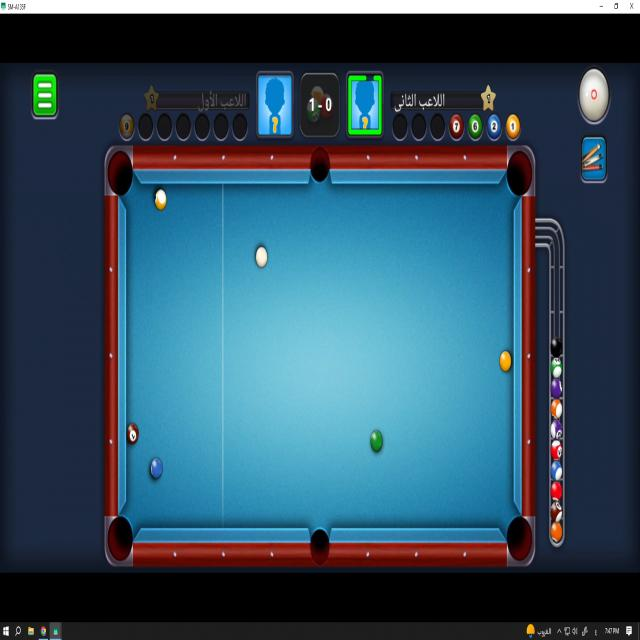object_ball: (500, 351, 511, 372), (151, 458, 162, 479), (371, 431, 382, 452), (155, 190, 166, 210), (127, 424, 138, 443)
white_cue_ball: (256, 247, 267, 268)
